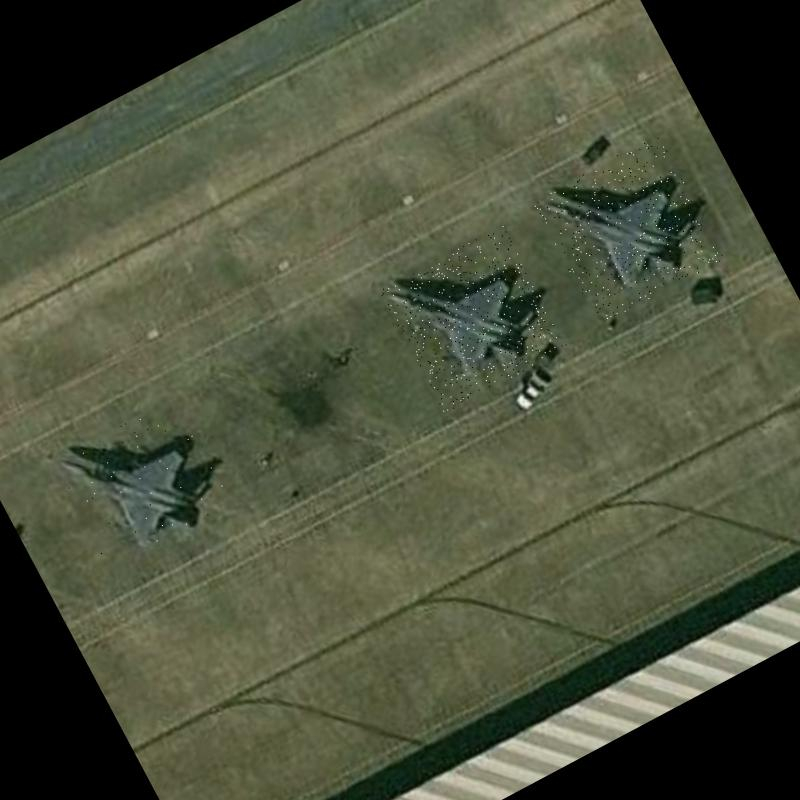A13: (532, 133, 724, 326), (45, 391, 236, 578), (379, 224, 568, 412)
